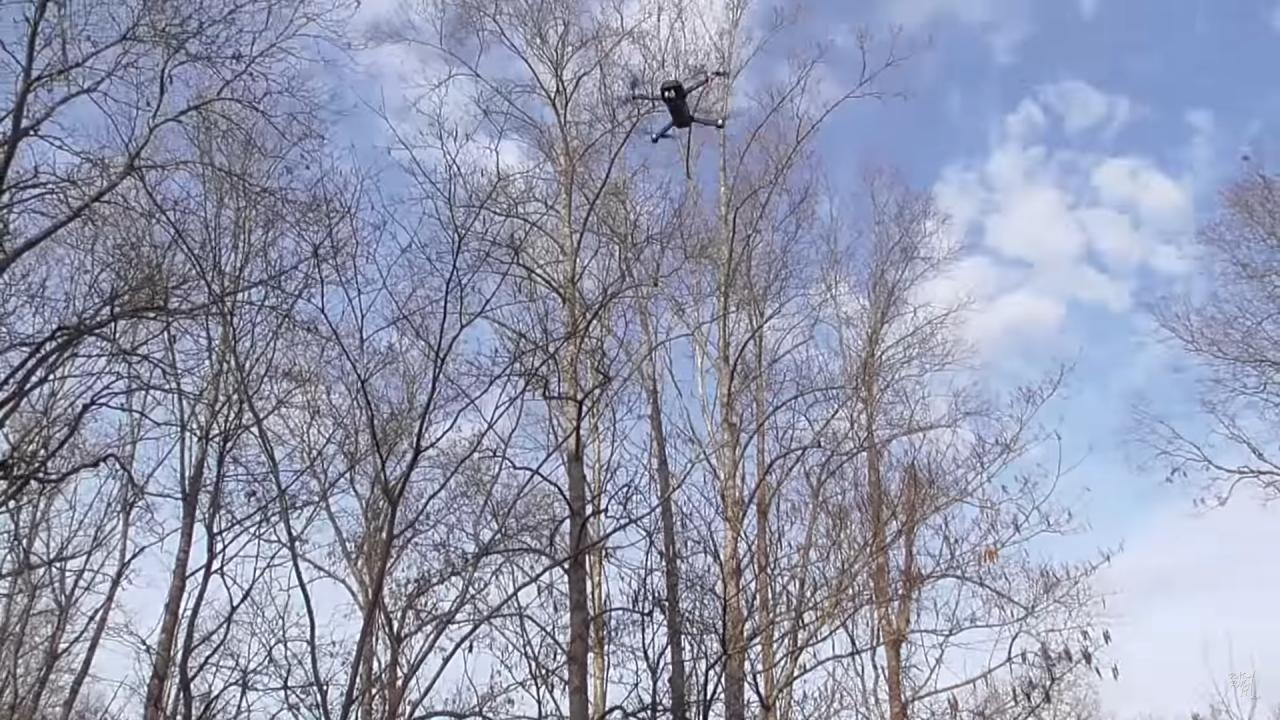Drone: (613, 58, 746, 153)
